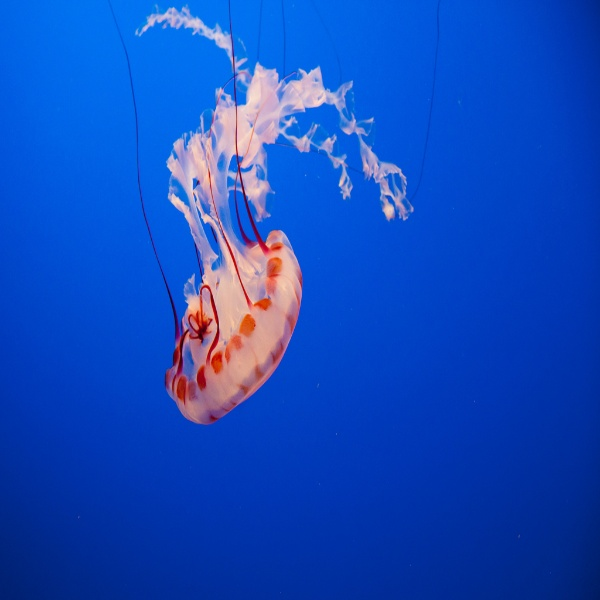Jellyfish: (106, 0, 302, 423)
